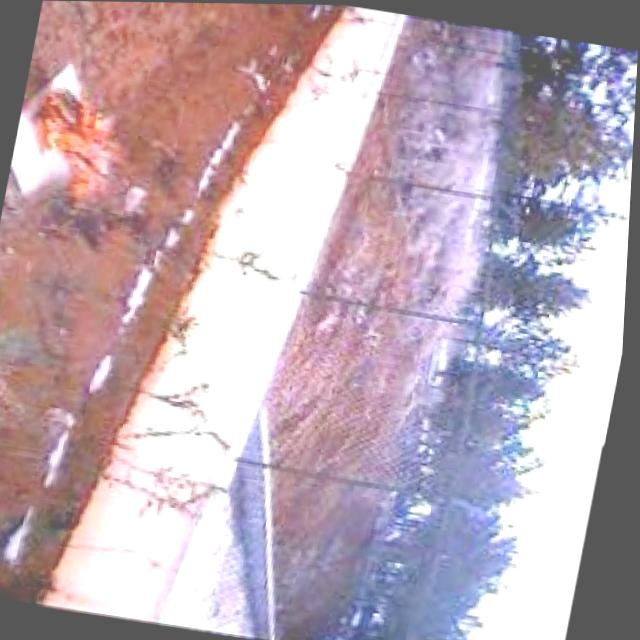helmet: (15, 79, 138, 212)
